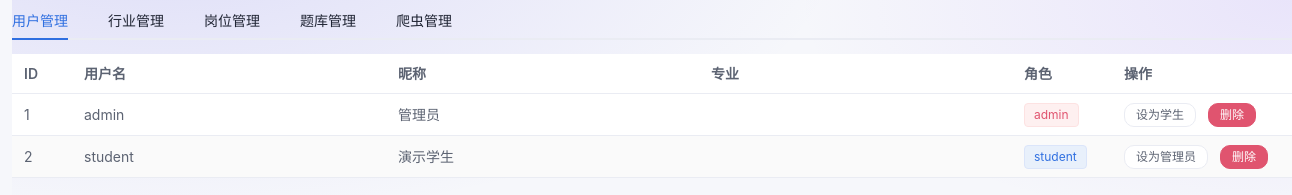
Test: 管理端 › 切换到题库 tab 时触发题目加载
Click the tab "题库管理": click(328, 20) [300,12,356,29]
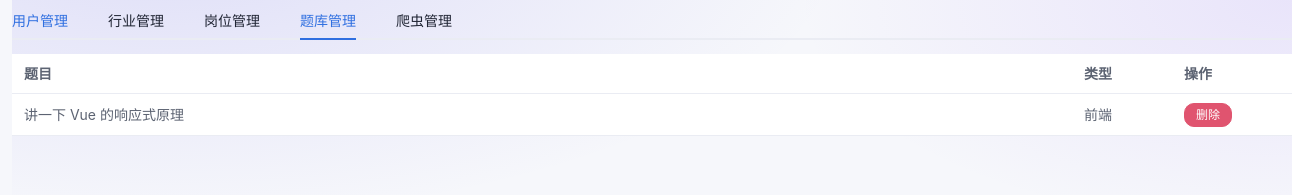
Expected: the text "讲一下 Vue 的响应式原理" is shown, [24,106,184,123]
